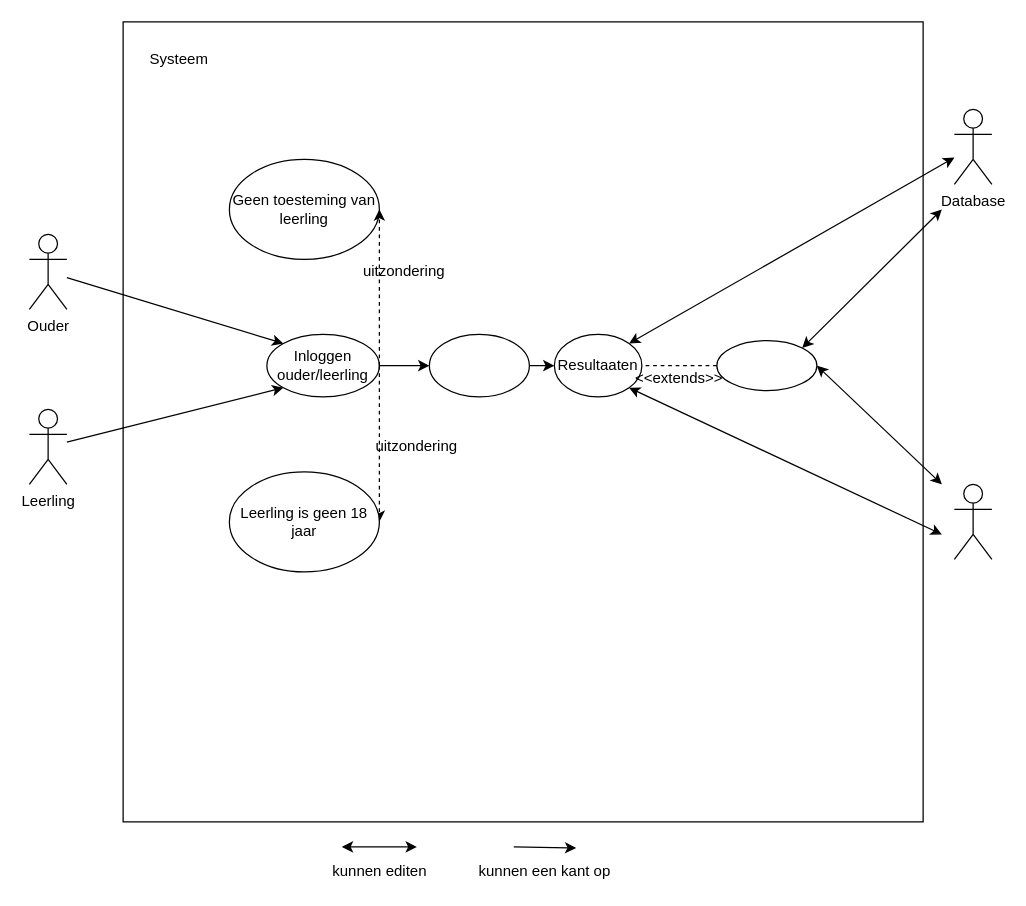
The diagram is 1026 pixels wide and 906 high, and some of its shapes have lost their labels. Each missing label, with the box of its shape:
aanwezigheid: (716, 339, 817, 391)
Docent: (953, 483, 992, 559)
toestemming resultaaten: (428, 333, 529, 397)
